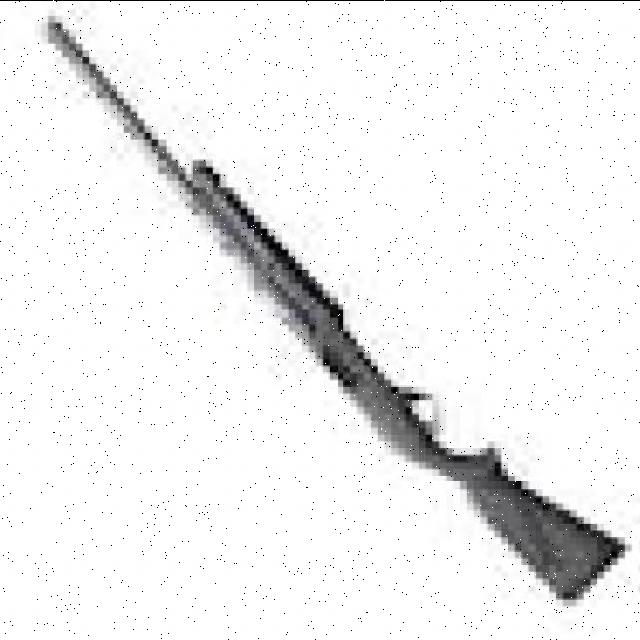Rifle: (40, 27, 635, 607)
